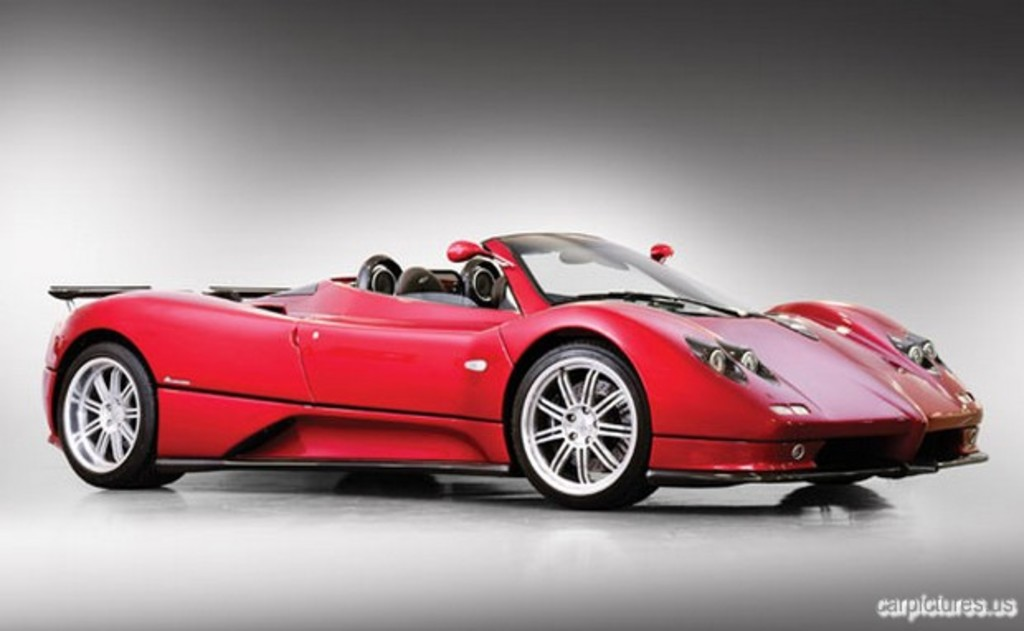Car: (40, 232, 990, 510)
